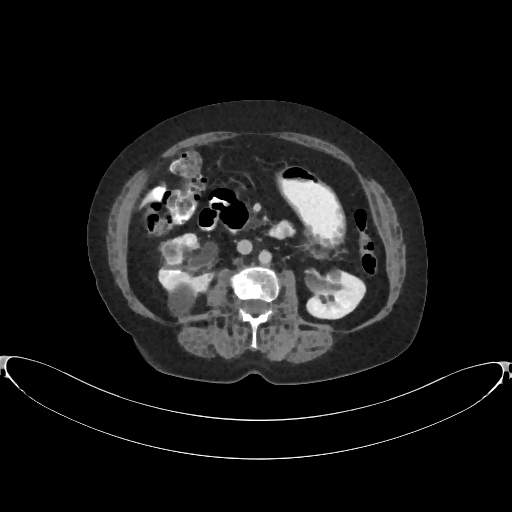Lesion: (167, 280, 198, 318)
